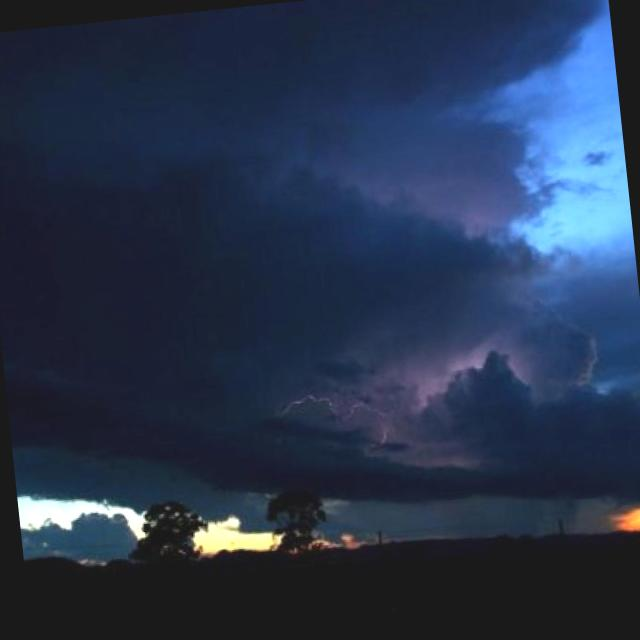cumulonimbus: (0, 0, 637, 492)
